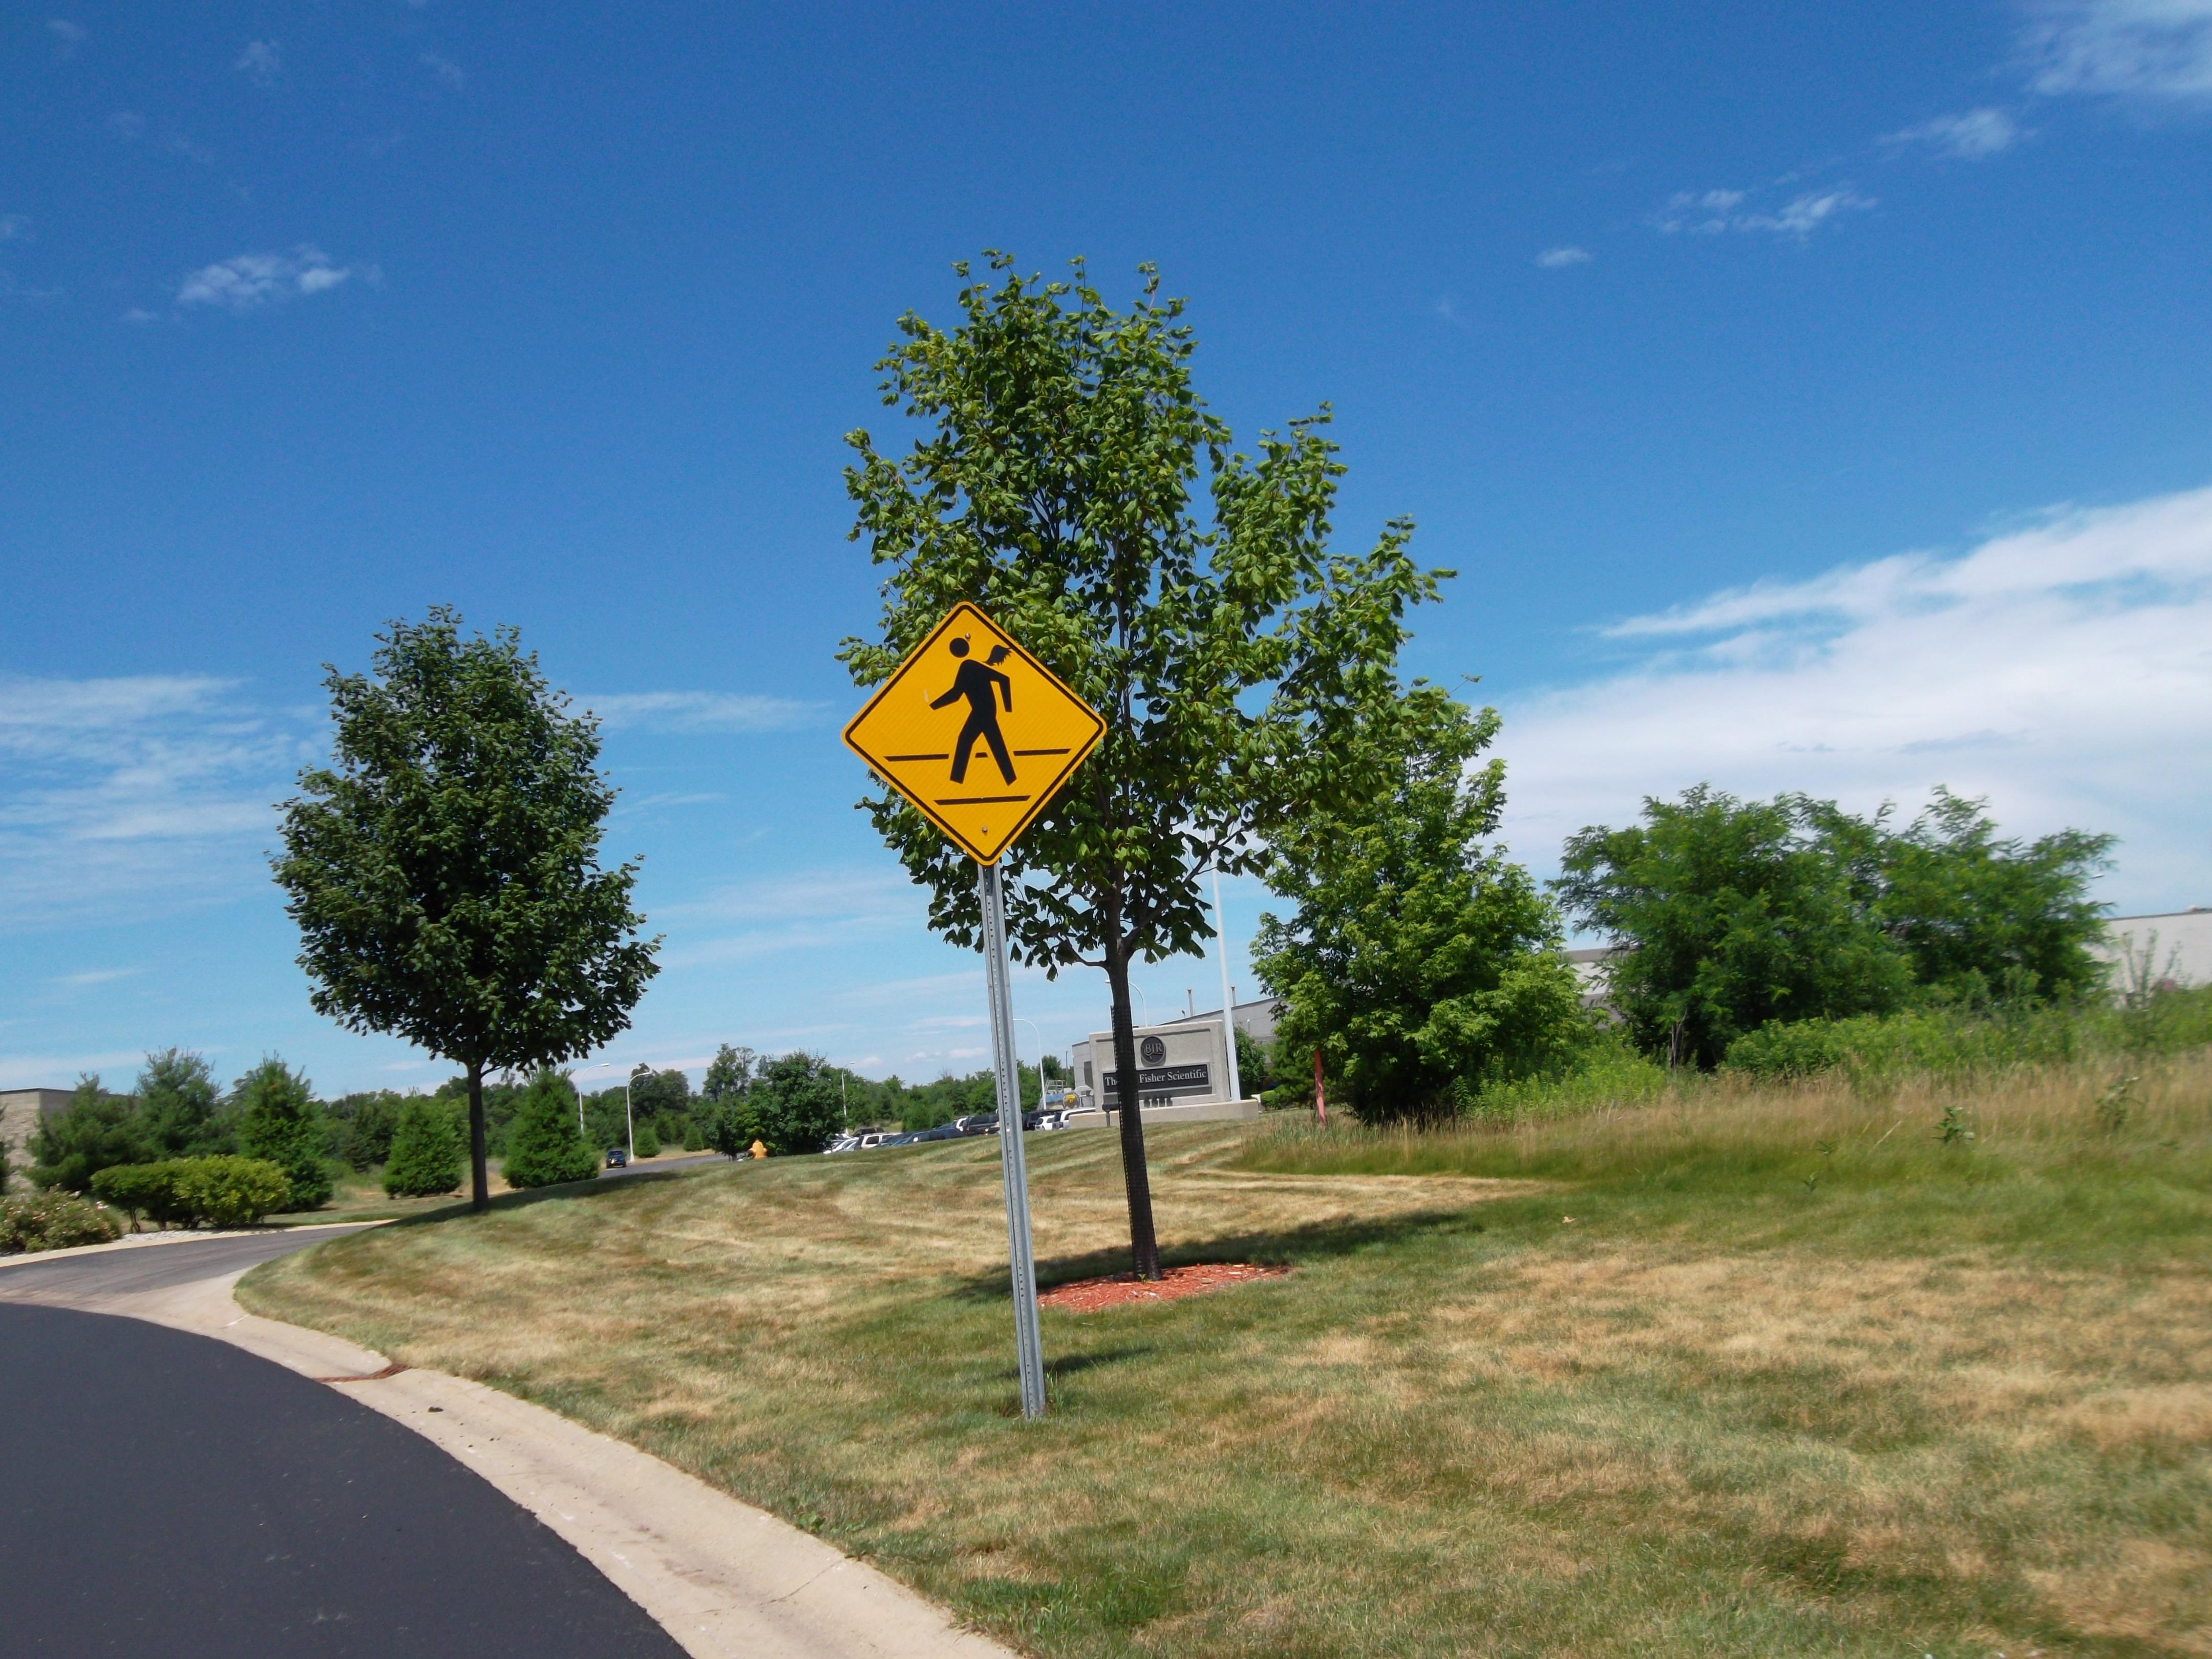warning: (841, 592, 1115, 866)
